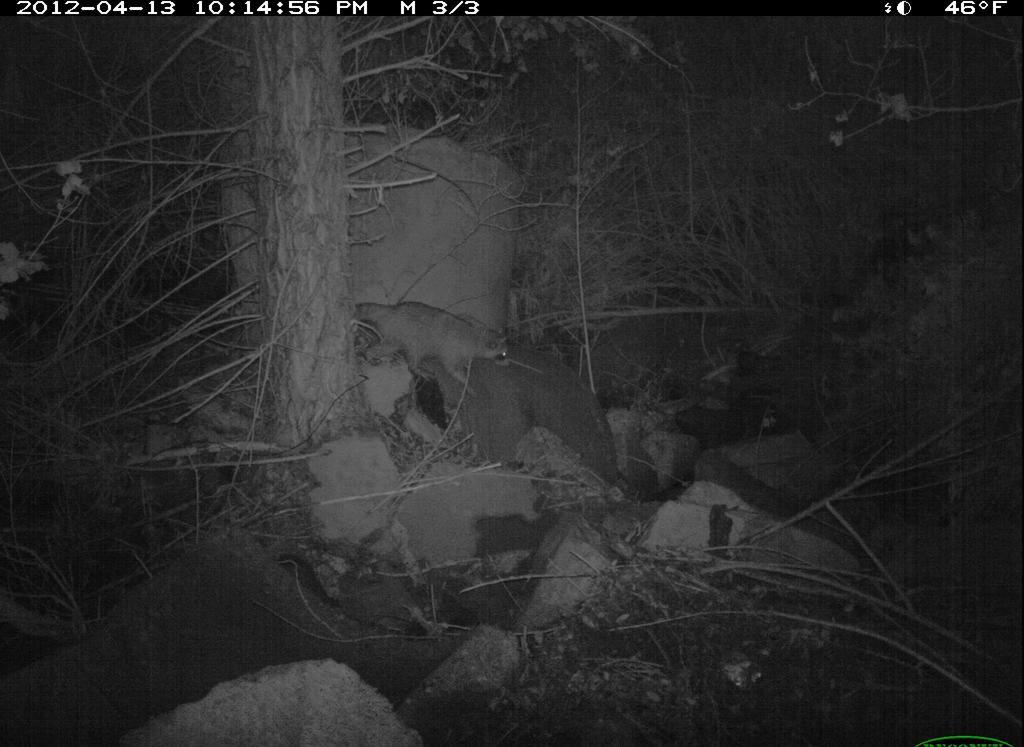raccoon: (354, 296, 515, 399)
